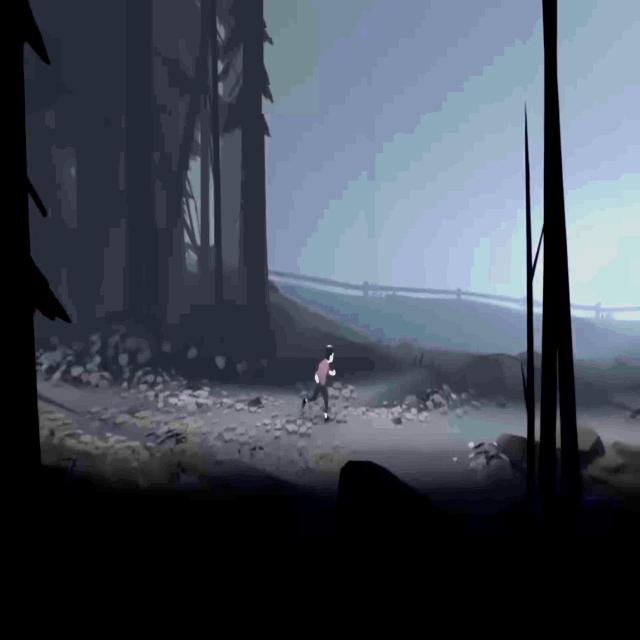boy: (306, 346, 334, 419)
